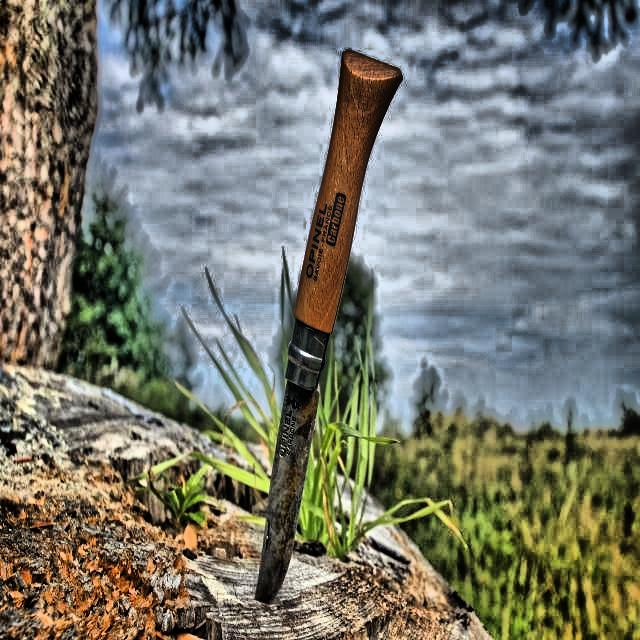knife: (250, 45, 405, 617)
